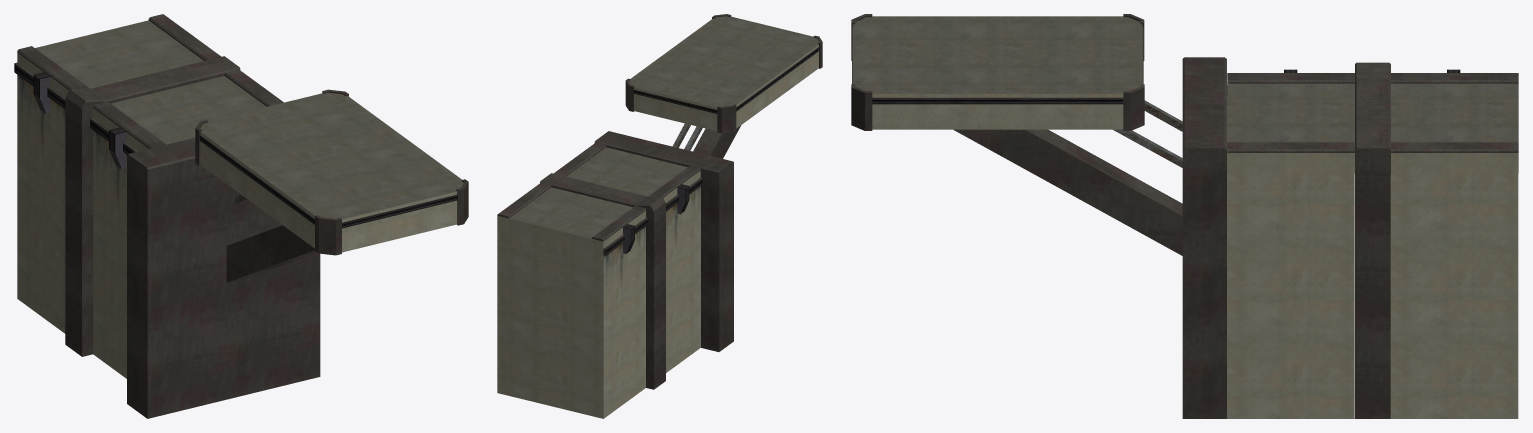
Rendered from endcap.fbx.
3 views of the same model, side by side, from view 1: azimuth 30°, elevation 25°; view 2: azimuth 150°, elevation 25°; view 3: azimuth 270°, elevation 25° (orthographic). The views are drawn at different scales.
Visible parts, largest first — view 1: Object; view 2: Object; view 3: Object.
Boxes of the visible parts, x1,y1,x2,y2 form: Object: (14, 14, 468, 418); Object: (497, 14, 822, 418); Object: (851, 14, 1518, 418).
Size of the model in its own units: 3281 by 5431 by 10062.
